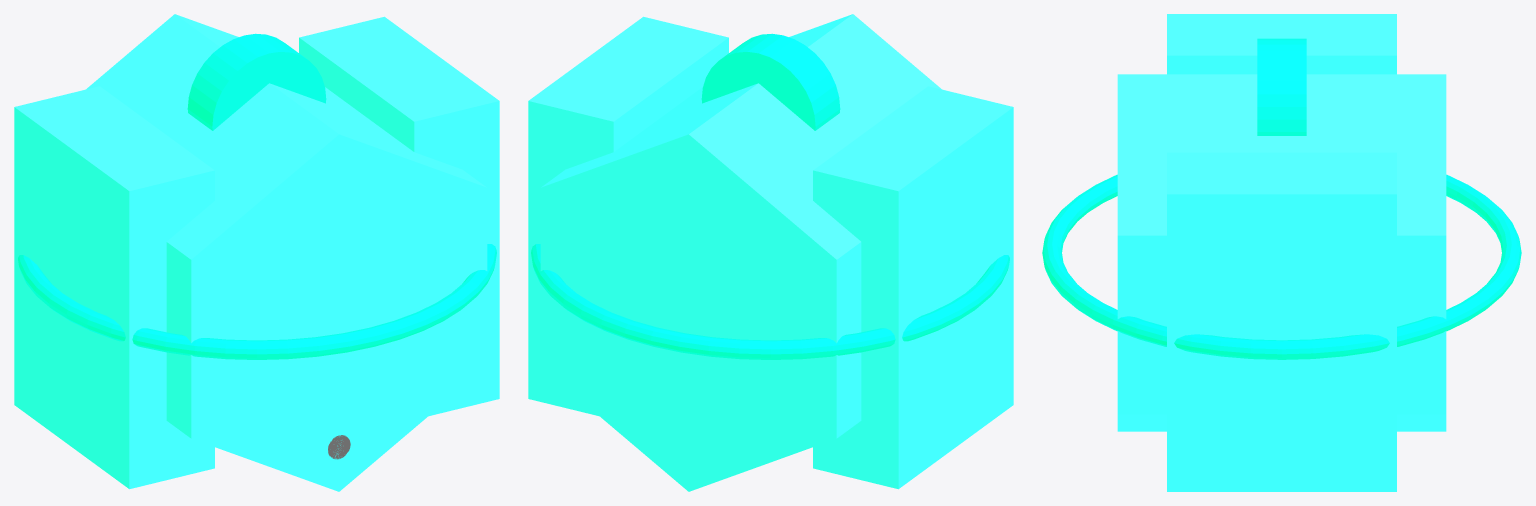
The model's file is enemy_tank.glb.
3 renders of one model, left to right at view 1: azimuth 30°, elevation 25°; view 2: azimuth 150°, elevation 25°; view 3: azimuth 270°, elevation 25°, orthographic.
Parts seen in each view (by area): view 1: TnkBody, TnkArmor-1, TnkArmor1, TnkShield, TnkEngine; view 2: TnkBody, TnkArmor-1, TnkArmor1, TnkShield, TnkEngine; view 3: TnkArmor1, TnkBody, TnkShield, TnkArmor-1, TnkEngine.
Part boxes in pixels (bbox=[...]): TnkBody: bbox=[86, 14, 487, 491]; TnkArmor-1: bbox=[14, 86, 214, 489]; TnkArmor1: bbox=[299, 16, 499, 415]; TnkShield: bbox=[18, 244, 496, 359]; TnkEngine: bbox=[187, 33, 326, 130]; TnkBody: bbox=[540, 14, 941, 491]; TnkArmor-1: bbox=[813, 86, 1013, 489]; TnkArmor1: bbox=[528, 16, 728, 415]; TnkShield: bbox=[531, 244, 1009, 359]; TnkEngine: bbox=[701, 33, 840, 130]; TnkArmor1: bbox=[1167, 152, 1396, 491]; TnkBody: bbox=[1117, 74, 1446, 431]; TnkShield: bbox=[1042, 174, 1521, 359]; TnkArmor-1: bbox=[1167, 14, 1396, 74]; TnkEngine: bbox=[1257, 38, 1306, 135].
Size of the model in its own units: 1.46 by 1.3 by 1.46.
